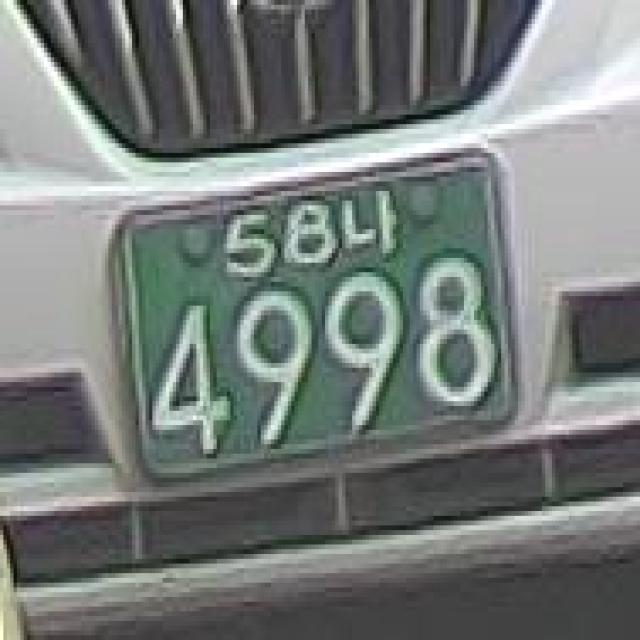illegal_plate: (104, 143, 532, 501)
